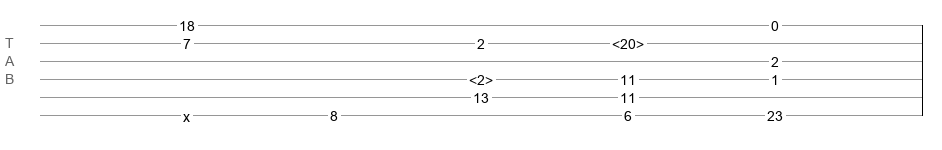0: (771, 18, 779, 28)
1: (771, 72, 779, 82)
11: (620, 90, 636, 100), (620, 72, 636, 82)
13: (473, 90, 489, 100)
18: (179, 18, 195, 28)
2: (477, 36, 485, 46), (771, 54, 779, 64)
23: (767, 108, 783, 118)
6: (624, 108, 632, 118)
7: (183, 36, 191, 46)
8: (330, 108, 338, 118)
harmonic: (612, 36, 644, 46), (469, 72, 493, 82)
x: (183, 109, 190, 117)
